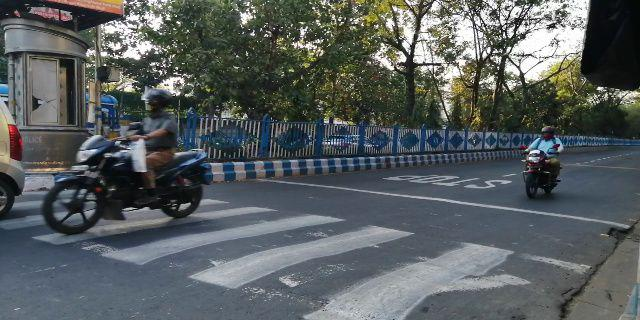Motorbike: (40, 88, 208, 235), (518, 121, 564, 200)
